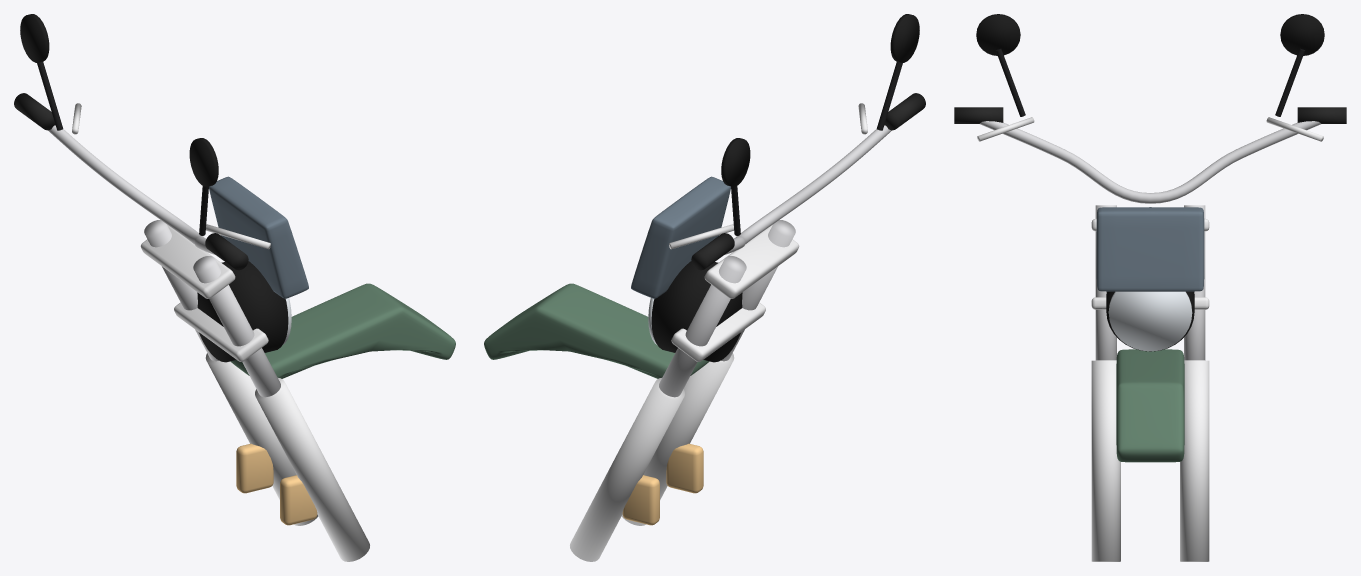
File: STRADA700_Sterzo.glb
The picture shows the model from 3 angles, left to right: view 1: azimuth 30°, elevation 25°; view 2: azimuth 150°, elevation 25°; view 3: azimuth 270°, elevation 25°; orthographic projection. The views are drawn at different scales.
Parts seen in each view (by area): view 1: STRADA700_Sterzo; view 2: STRADA700_Sterzo; view 3: STRADA700_Sterzo.
Boxes of the visible parts, x1,y1,x2,y2 form: STRADA700_Sterzo: (14, 14, 455, 561); STRADA700_Sterzo: (484, 14, 925, 561); STRADA700_Sterzo: (954, 14, 1346, 561).
Size of the model in its own units: 0.6823 by 1.04 by 0.8.
